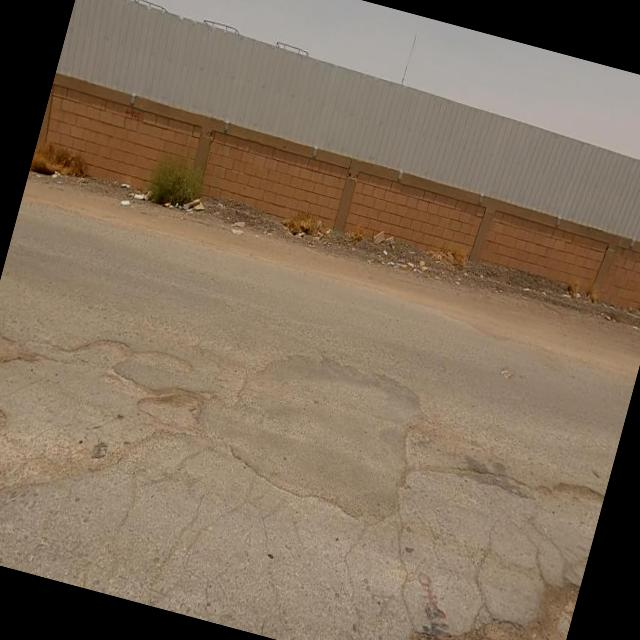debris: (81, 152, 185, 252), (139, 151, 236, 258), (402, 202, 478, 319), (339, 192, 428, 284), (200, 172, 276, 274), (18, 126, 88, 230), (360, 224, 450, 302)
